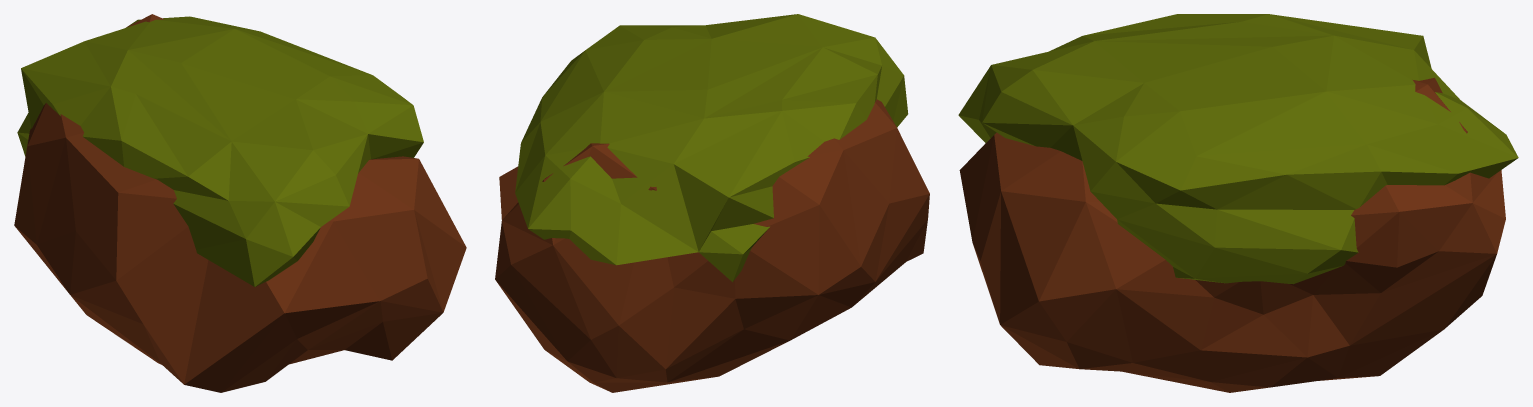
File: Due_Isola1_Pedana.fbx
3 views of the same model, side by side, from view 1: azimuth 30°, elevation 25°; view 2: azimuth 150°, elevation 25°; view 3: azimuth 270°, elevation 25° (orthographic). The views are drawn at different scales.
Visible parts, largest first — view 1: Sphere.146, Sphere.145; view 2: Sphere.145, Sphere.146; view 3: Sphere.145, Sphere.146.
Part boxes in pixels (left/top/right/bottom): Sphere.146: left=14, top=14, right=466, bottom=392; Sphere.145: left=17, top=16, right=423, bottom=286; Sphere.145: left=515, top=14, right=908, bottom=282; Sphere.146: left=495, top=99, right=929, bottom=392; Sphere.145: left=958, top=14, right=1518, bottom=284; Sphere.146: left=959, top=77, right=1505, bottom=392.
Size of the model in its own units: 49.44 by 41.06 by 67.55.
